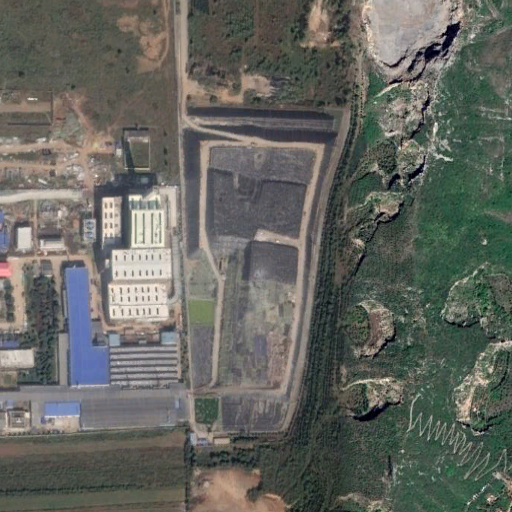lf: (183, 106, 343, 433)
